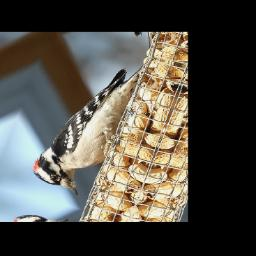Woodpecker: (26, 50, 147, 200)
